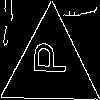P: (25, 41, 66, 76)
